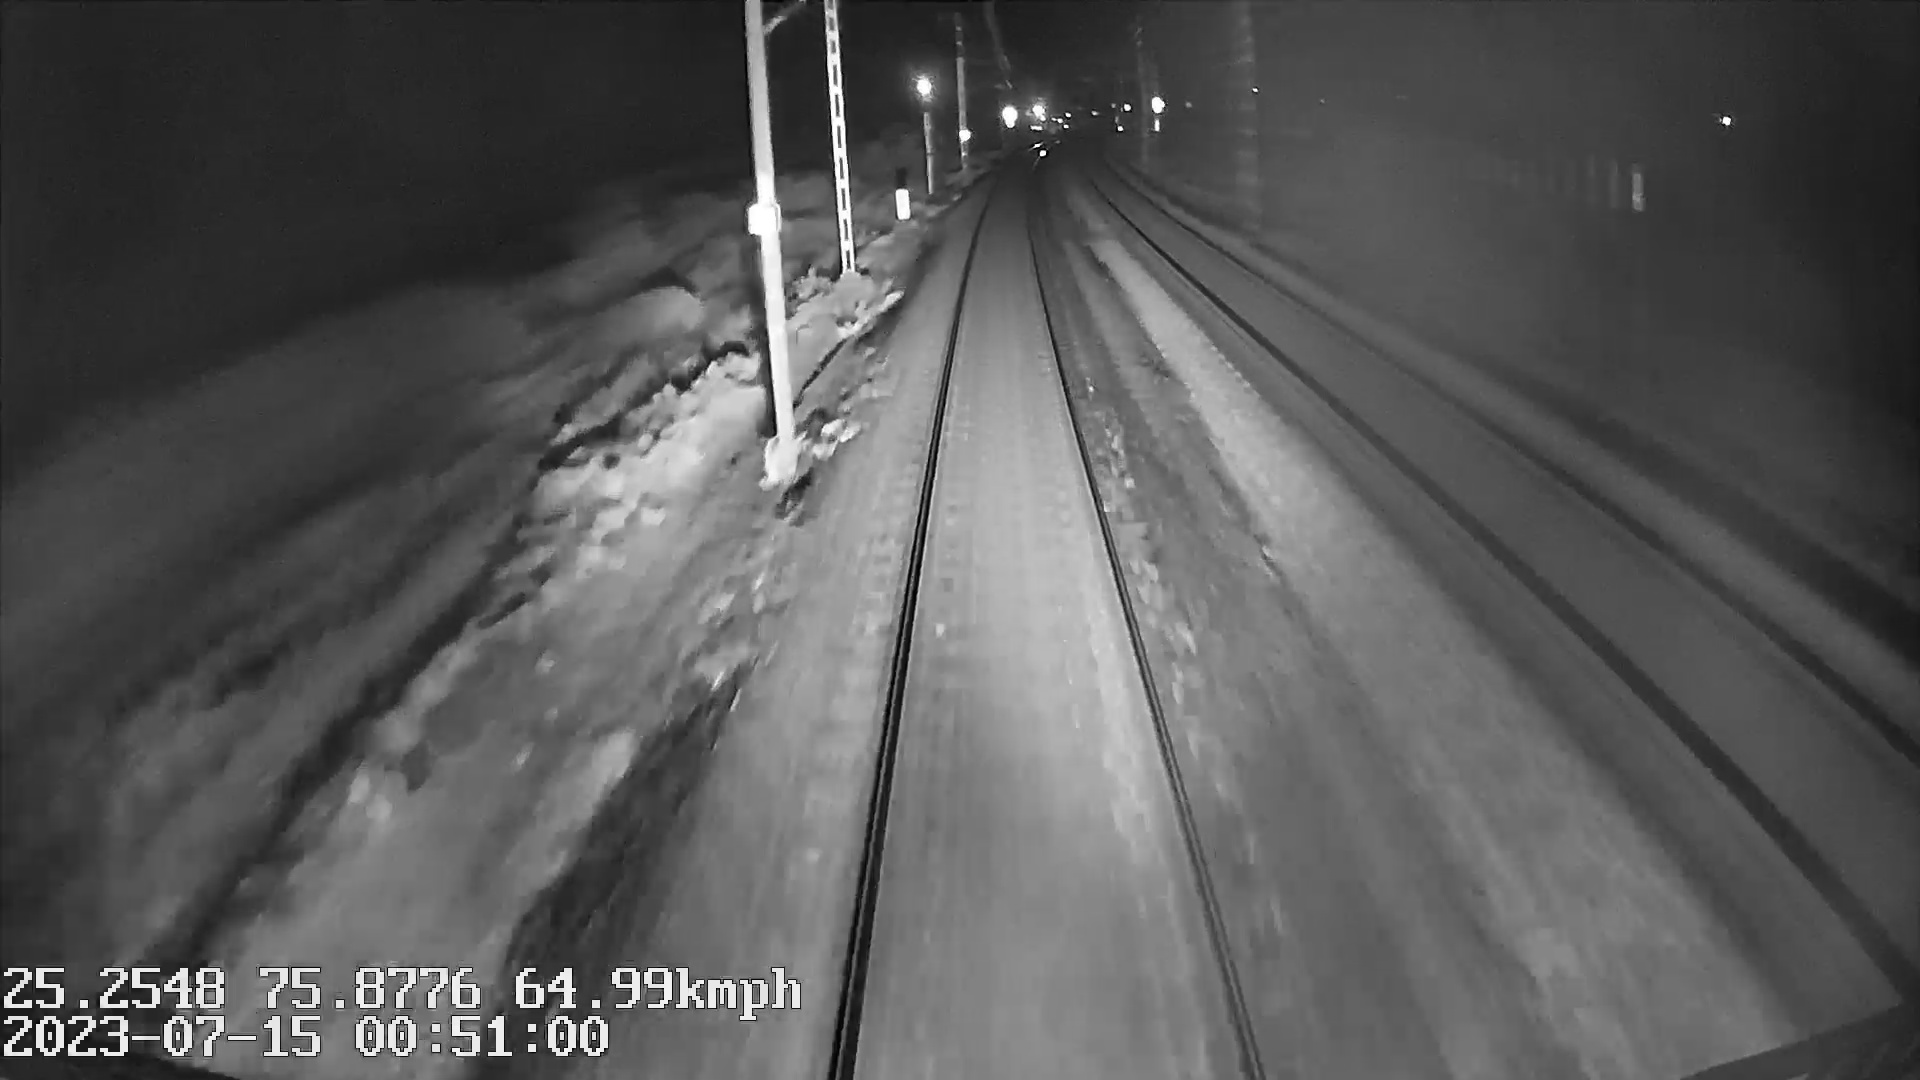track1: (845, 202, 1255, 1059)
track2: (1097, 183, 1904, 857)
